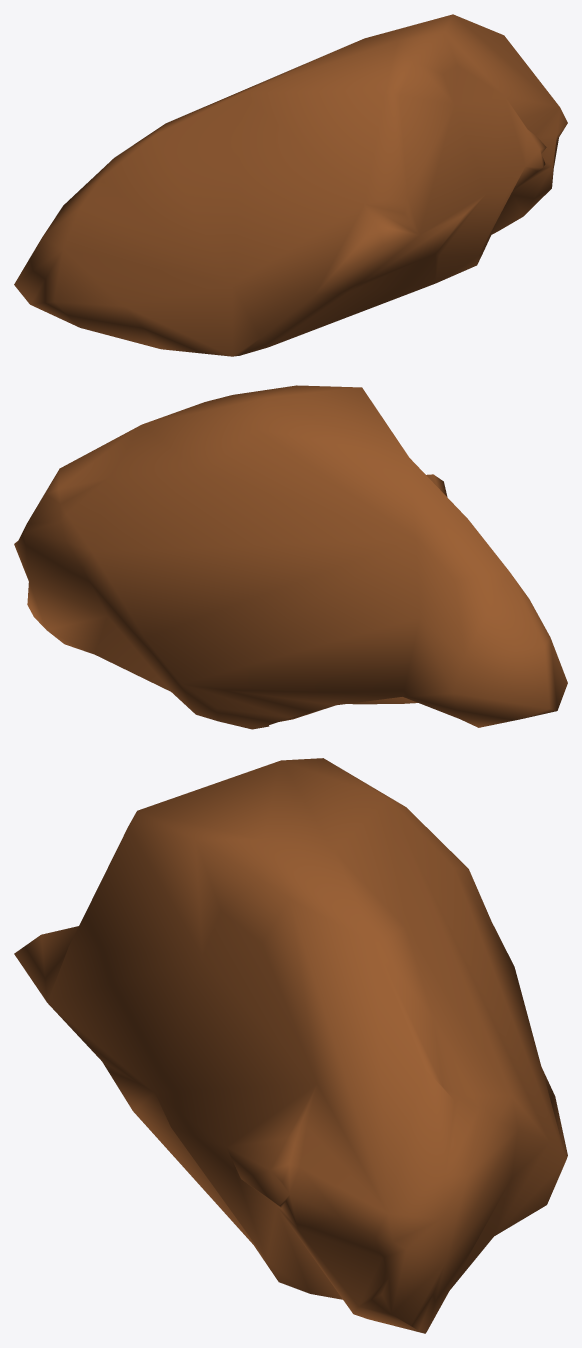
File: Cliff_Rock02.FBX
The picture shows the model from 3 angles, top to bottom: view 1: azimuth 30°, elevation 25°; view 2: azimuth 150°, elevation 25°; view 3: azimuth 270°, elevation 25°; orthographic projection. The views are drawn at different scales.
Parts seen in each view (by area): view 1: Cliff_Rock02; view 2: Cliff_Rock02; view 3: Cliff_Rock02.
Boxes of the visible parts, x1=… form: Cliff_Rock02: x1=14, y1=14, x2=567, y2=356; Cliff_Rock02: x1=14, y1=385, x2=567, y2=729; Cliff_Rock02: x1=14, y1=758, x2=567, y2=1333.
Bounding box in the file's own units: 286 × 125 × 165.
